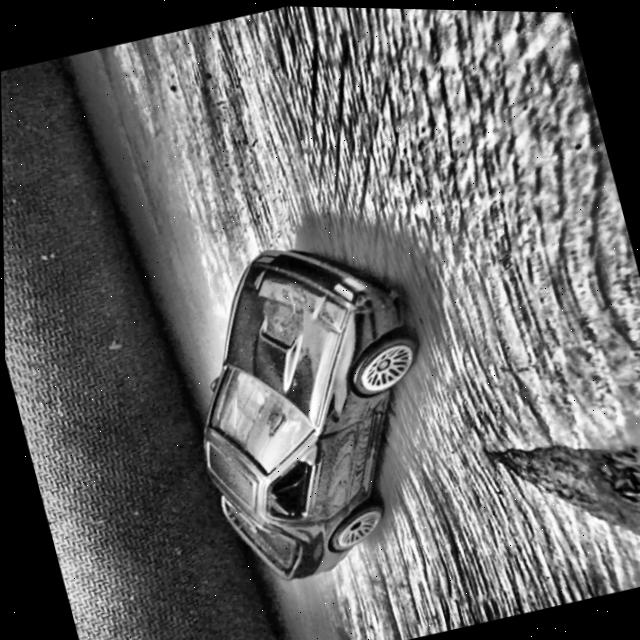car: (151, 215, 471, 596)
